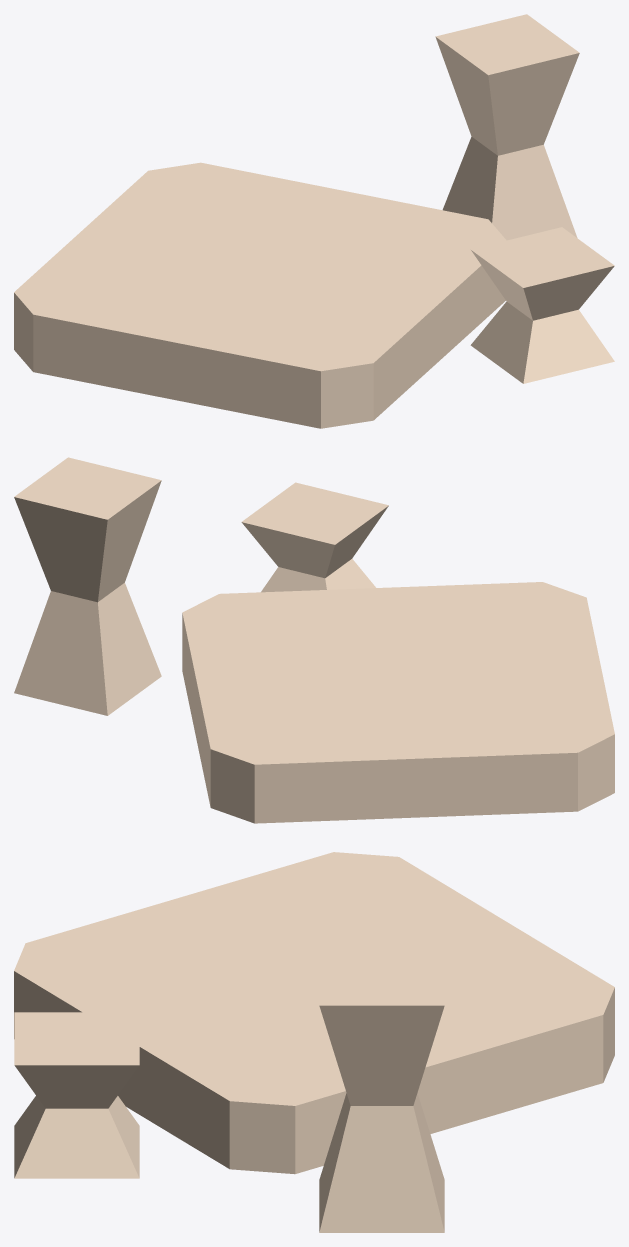
File: Farmlvl1.fbx
3 renders of one model, top to bottom at view 1: azimuth 30°, elevation 25°; view 2: azimuth 150°, elevation 25°; view 3: azimuth 270°, elevation 25°, orthographic. The views are drawn at different scales.
Parts seen in each view (by area): view 1: grain.001, grainBundle.003, grainBundle.002; view 2: grain.001, grainBundle.003, grainBundle.002; view 3: grain.001, grainBundle.003, grainBundle.002.
Part boxes in pixels (<box>): grain.001: <box>14,162,506,428</box>; grainBundle.003: <box>435,14,579,240</box>; grainBundle.002: <box>470,227,614,383</box>; grain.001: <box>182,582,614,823</box>; grainBundle.003: <box>14,457,161,715</box>; grainBundle.002: <box>241,482,388,592</box>; grain.001: <box>14,852,614,1174</box>; grainBundle.003: <box>319,952,444,1232</box>; grainBundle.002: <box>14,1012,139,1178</box>.
Size of the model in its own units: 59.01 by 20 by 47.93.
